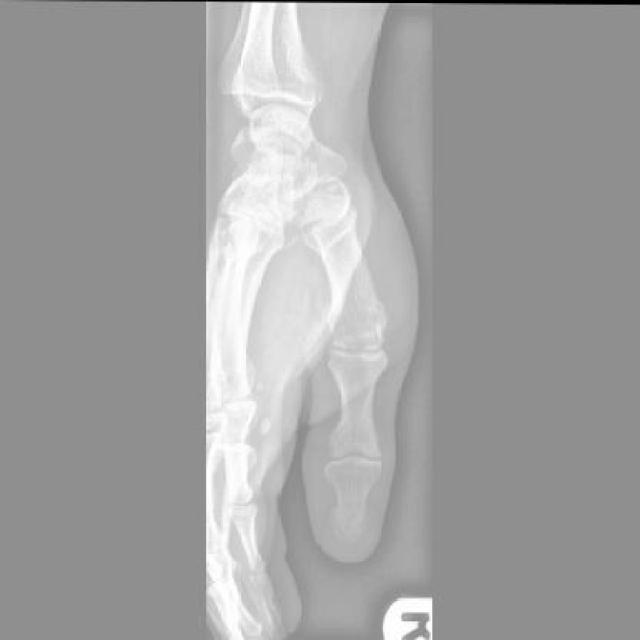Fracture: (345, 277, 394, 344)
